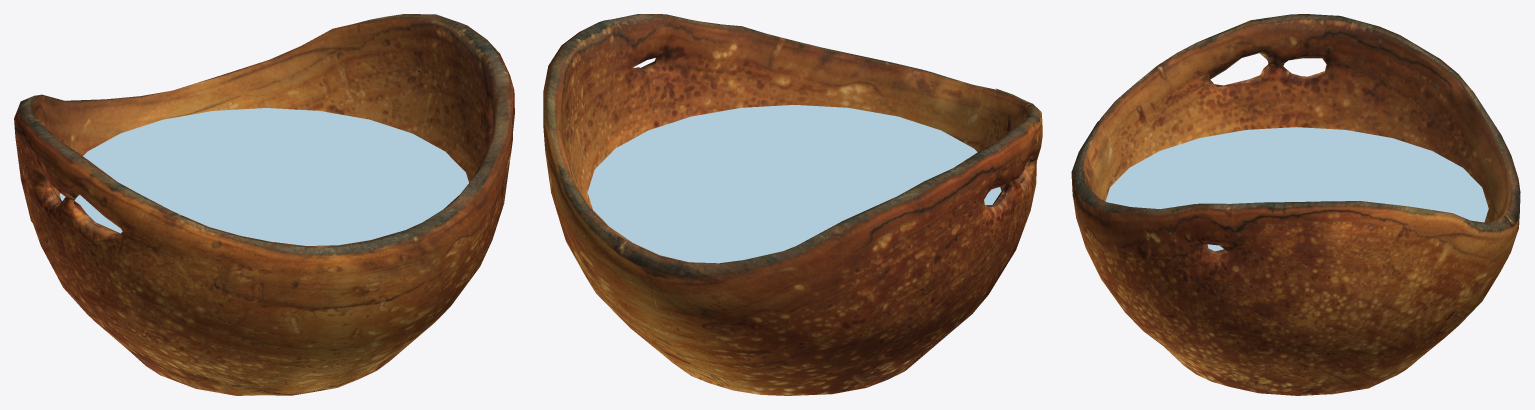
The model's file is cup.glb.
3 renders of one model, left to right at view 1: azimuth 30°, elevation 25°; view 2: azimuth 150°, elevation 25°; view 3: azimuth 270°, elevation 25°, orthographic. The views are drawn at different scales.
Visible parts, largest first — view 1: Cup, Water; view 2: Cup, Water; view 3: Cup, Water.
Part boxes in pixels (x1,y1,x2,y2): Cup: (14,14,514,395); Water: (60,108,468,245); Cup: (543,14,1042,395); Water: (587,105,1001,263); Cup: (1071,14,1520,395); Water: (1105,127,1488,251).
Size of the model in its own units: 0.2002 by 0.112 by 0.1902.
Materials: 2 (1 with a texture image).
